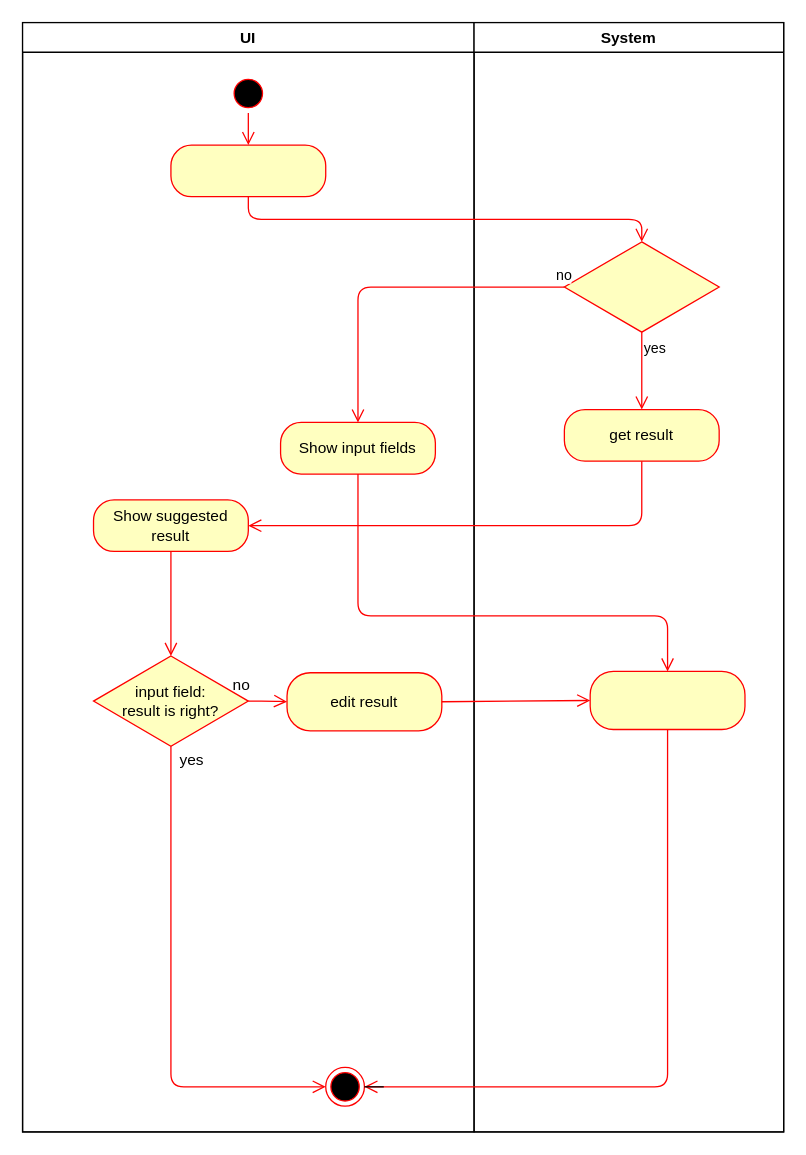
Some shapes in this 806 by 1155 pixel diagram are drawn without their labels. Here are the shapes that lost their labels. From the top down, the centre of each, then its label:
At [248,170]: "Click on add result".
At [641,286]: "result of other team leader exist?".
At [667,699]: "save result".
